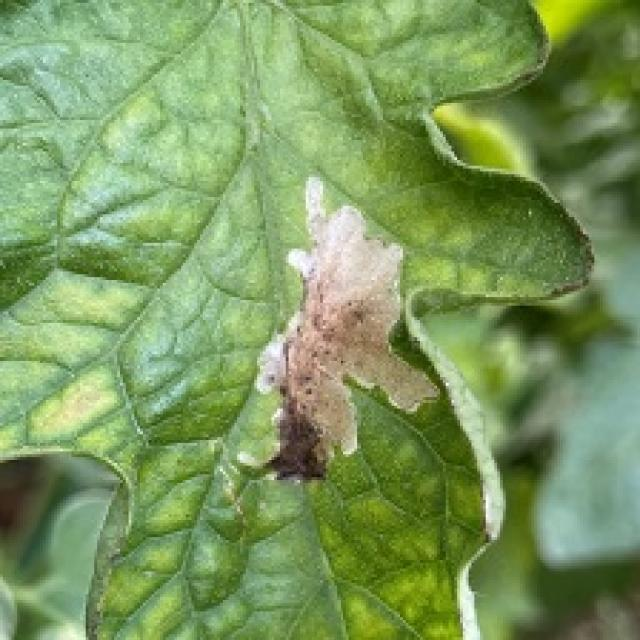Tuta absoluta: (205, 161, 451, 488)
